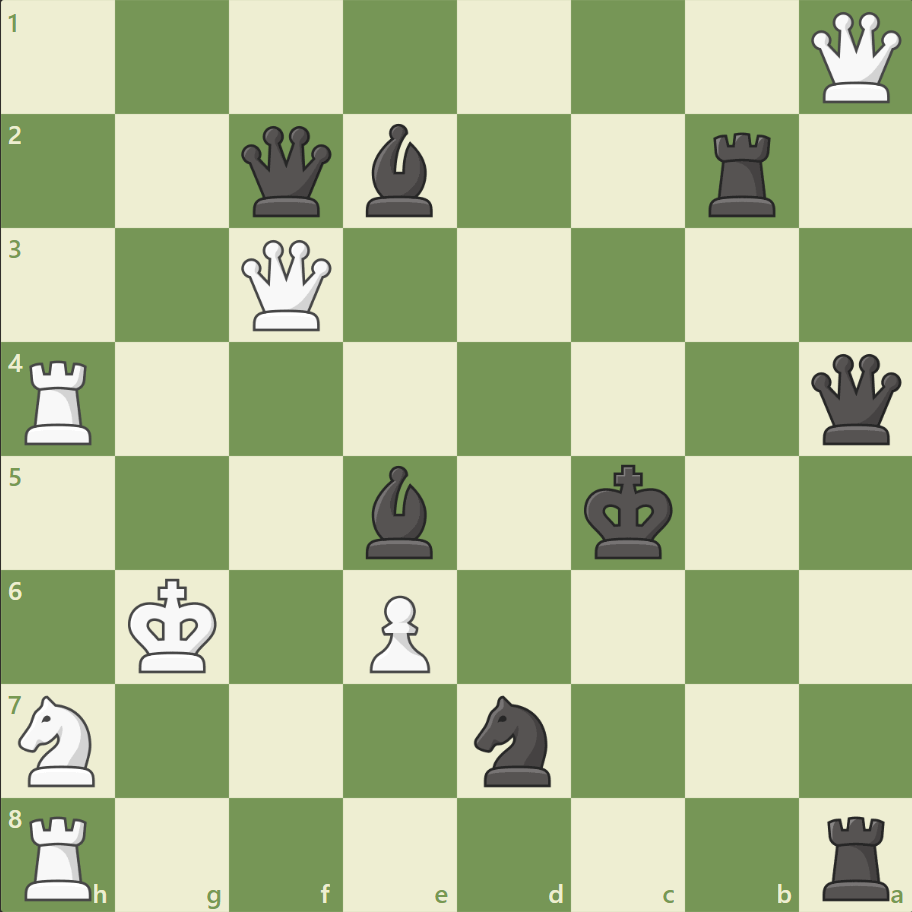K: (124, 571, 224, 679)
N: (11, 688, 108, 791)
P: (361, 586, 435, 677)
Q: (237, 236, 336, 335), (805, 9, 904, 108)
R: (19, 806, 102, 904), (19, 352, 102, 449)
b: (358, 460, 442, 563), (358, 120, 442, 222)
k: (579, 458, 679, 566)
n: (465, 688, 562, 791)
q: (805, 349, 904, 449), (237, 122, 336, 222)
r: (814, 806, 897, 904), (700, 125, 783, 222)
